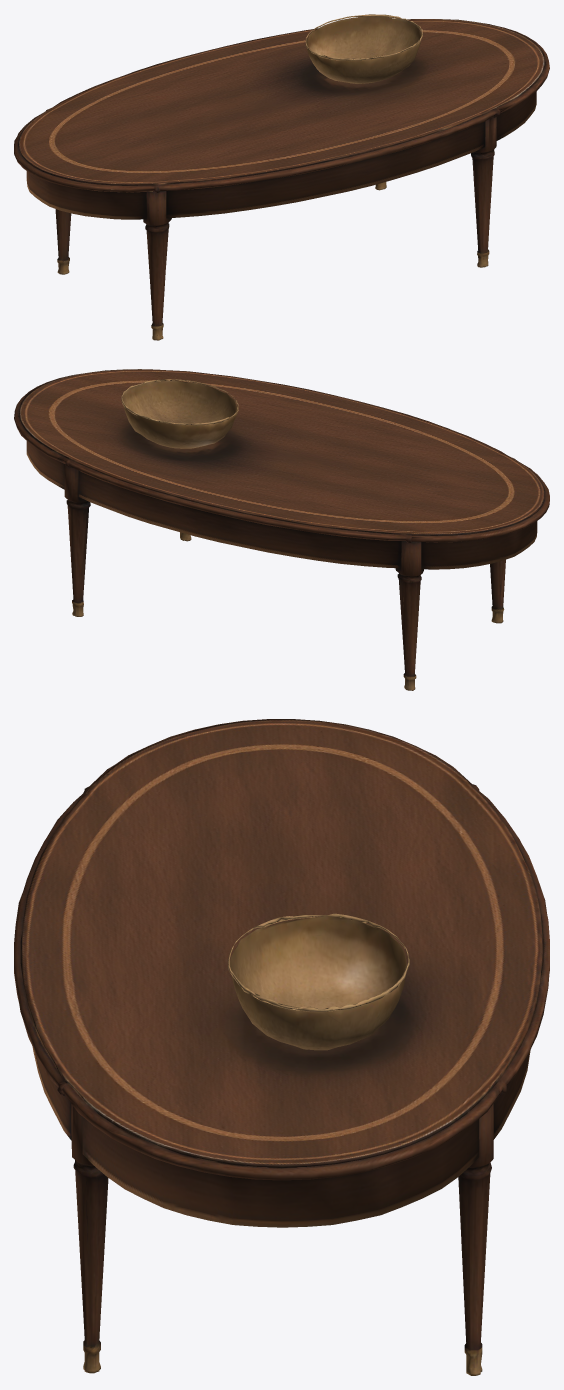
The model's file is furniture-coffee-table.glb.
3 renders of one model, top to bottom at view 1: azimuth 30°, elevation 25°; view 2: azimuth 150°, elevation 25°; view 3: azimuth 270°, elevation 25°, orthographic. The views are drawn at different scales.
Parts seen in each view (by area): view 1: tripo_node_ca91af58-1c79-4c68-bc6d-131d4cb0edf7; view 2: tripo_node_ca91af58-1c79-4c68-bc6d-131d4cb0edf7; view 3: tripo_node_ca91af58-1c79-4c68-bc6d-131d4cb0edf7.
Part boxes in pixels (x1,y1,x2,y2): tripo_node_ca91af58-1c79-4c68-bc6d-131d4cb0edf7: [14, 14, 549, 340]; tripo_node_ca91af58-1c79-4c68-bc6d-131d4cb0edf7: [14, 369, 549, 690]; tripo_node_ca91af58-1c79-4c68-bc6d-131d4cb0edf7: [14, 719, 549, 1375].
Bounding box in the file's own units: 1.3 × 0.48 × 0.65.
1 material, 1 textured.
